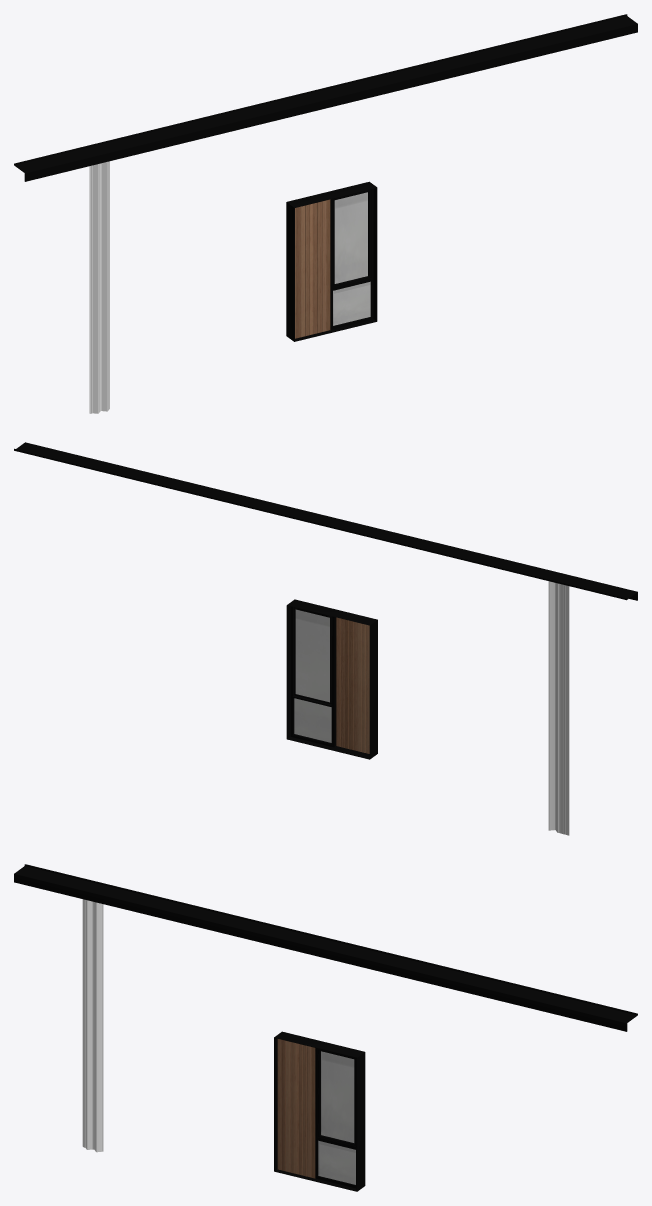
File: Leiva Fachada Vertical.glb
3 renders of one model, top to bottom at view 1: azimuth 30°, elevation 25°; view 2: azimuth 150°, elevation 25°; view 3: azimuth 330°, elevation 25°, orthographic.
Visible parts, largest first — view 1: Box006, Ventana2, Lamas2, matrix1_4, Marco2, matrix1_2; view 2: Box006, Ventana2, Lamas2, matrix1_4, Marco2, matrix1_7, matrix1_2; view 3: Box006, Ventana2, Lamas2, matrix1_4, Marco2, matrix1_2.
Part boxes in pixels (x1,y1,x2,y2): Box006: [14, 14, 637, 181]; Ventana2: [330, 189, 373, 329]; Lamas2: [295, 199, 330, 338]; matrix1_4: [92, 161, 109, 413]; Marco2: [286, 181, 377, 341]; matrix1_2: [91, 163, 100, 413]; Box006: [14, 442, 637, 600]; Ventana2: [291, 606, 336, 747]; Lamas2: [336, 617, 369, 753]; matrix1_4: [548, 581, 567, 835]; Marco2: [286, 599, 377, 759]; matrix1_7: [561, 584, 566, 834]; matrix1_2: [558, 583, 567, 834]; Box006: [14, 864, 637, 1031]; Ventana2: [315, 1048, 356, 1188]; Lamas2: [277, 1039, 315, 1178]; matrix1_4: [85, 900, 103, 1152]; Marco2: [274, 1031, 365, 1191]; matrix1_2: [84, 899, 93, 1149].
Bounding box in the file's own units: 9 × 3.65 × 0.4028.
Materials: 6 (2 with a texture image).
